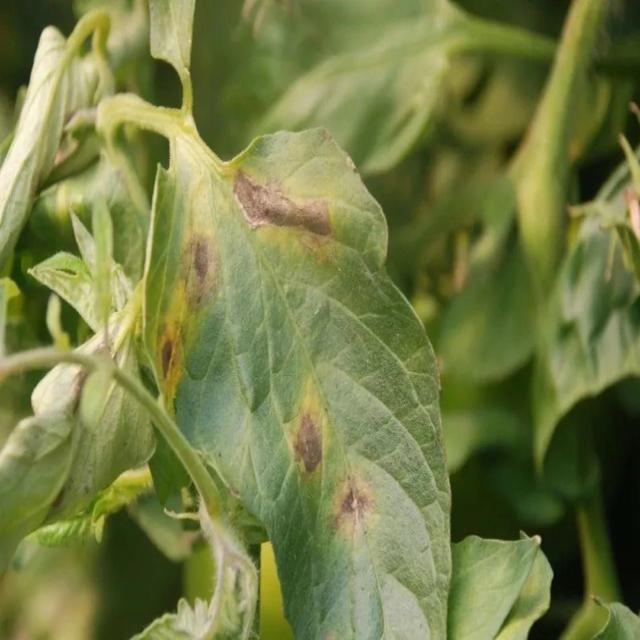Leaf_Mold: (222, 162, 340, 269), (150, 223, 215, 397), (279, 379, 332, 490), (327, 472, 378, 550)
